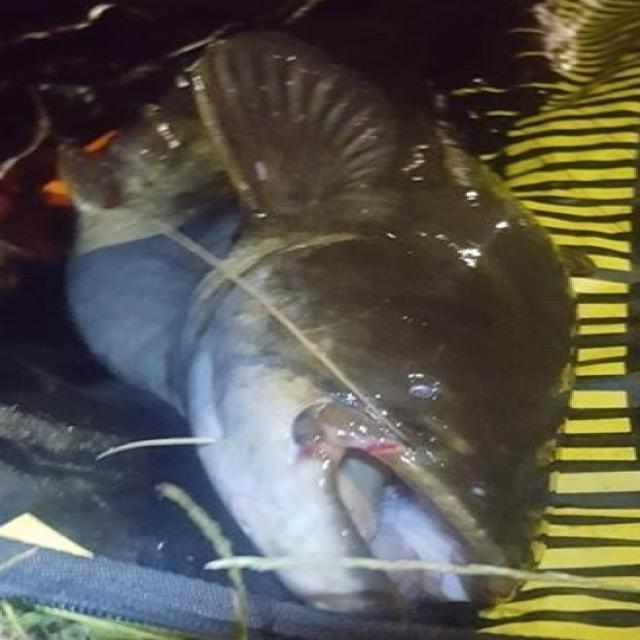Catfish: (116, 19, 632, 640)
